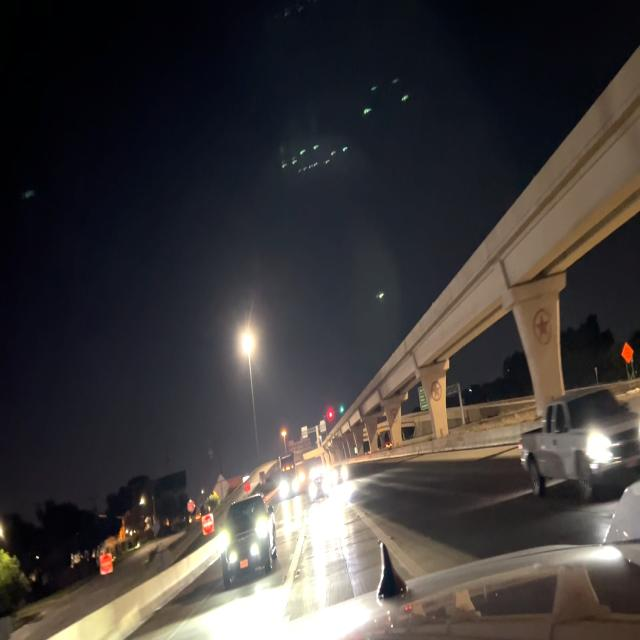back-of-sign: (213, 472, 231, 500), (288, 437, 315, 453)
